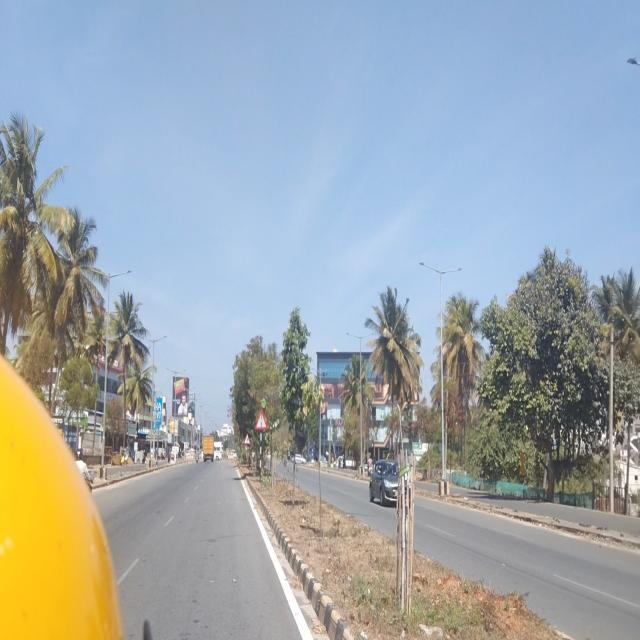bien_cam: (255, 408, 268, 431)
